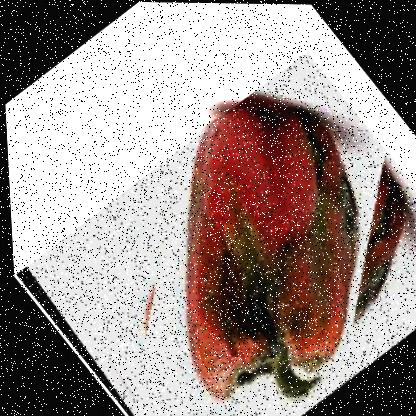capsicum_rotten: (1, 46, 415, 415)
